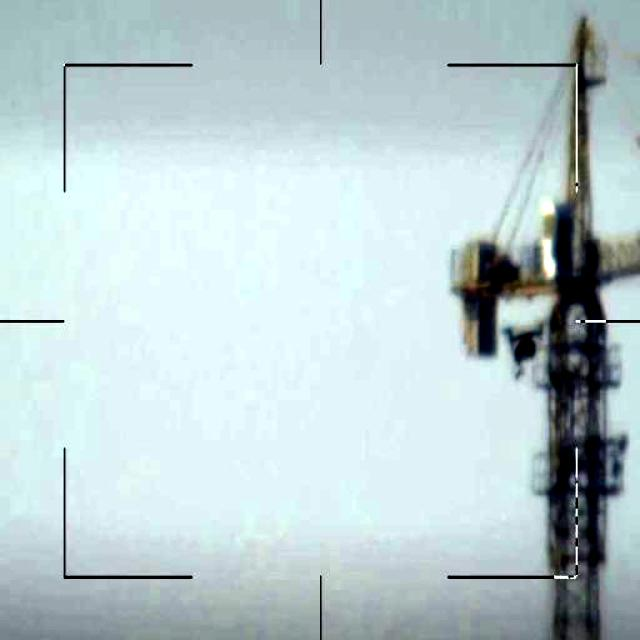bird: (498, 315, 541, 382)
